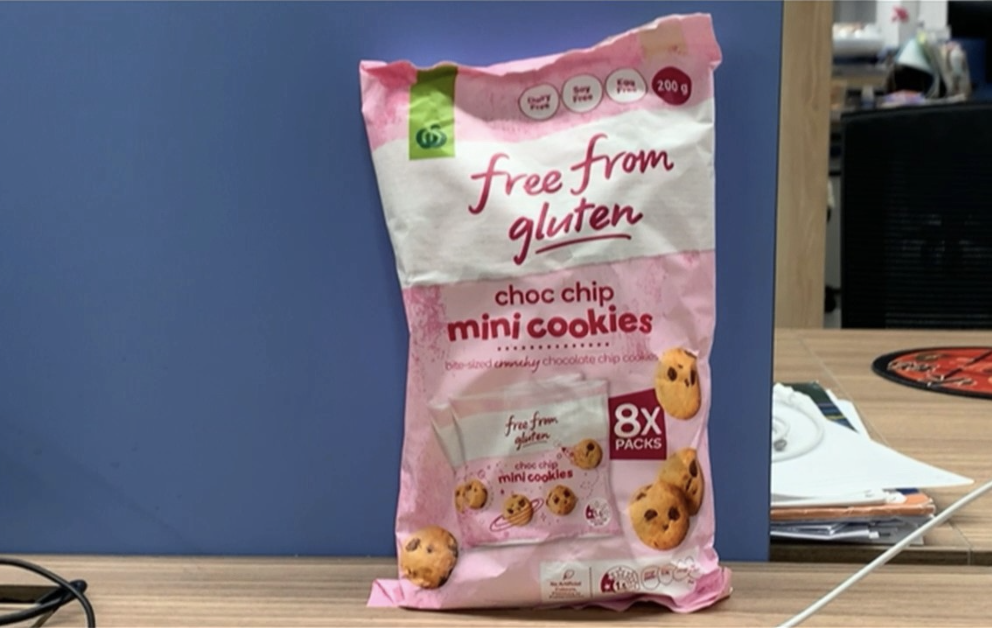cookies_150g: (414, 92, 698, 586)
